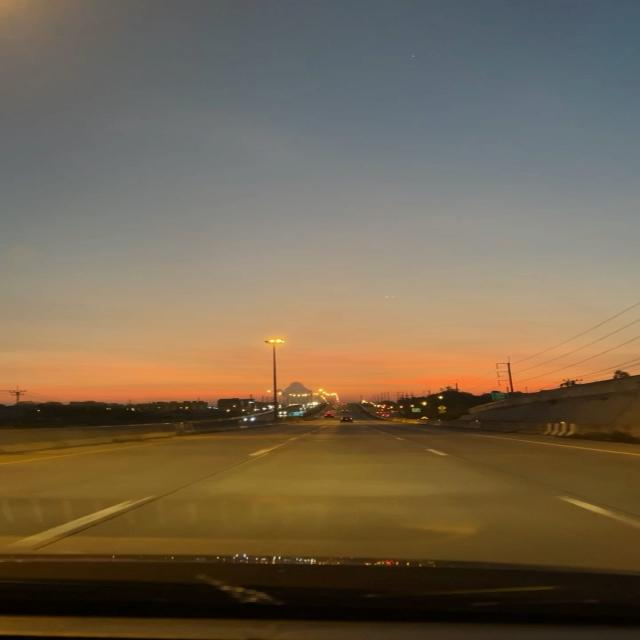Poth-hole: (102, 448, 524, 506)
